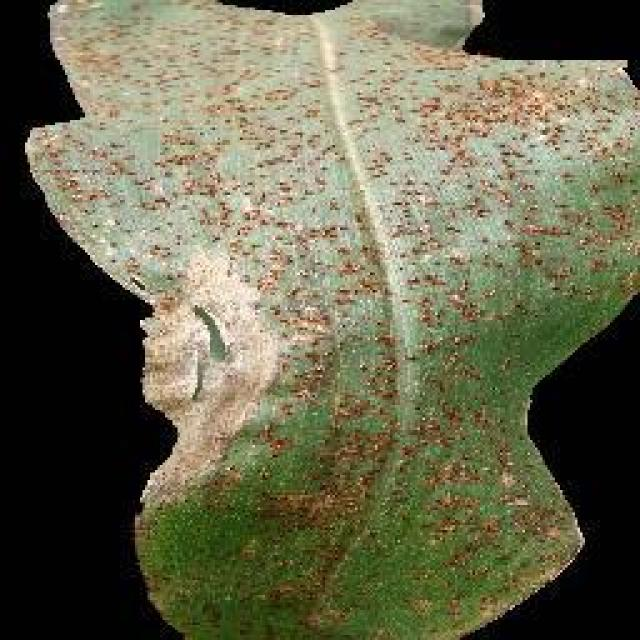Corn Common Rust: (63, 36, 598, 640)
